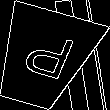P_S: (12, 28, 75, 88)
